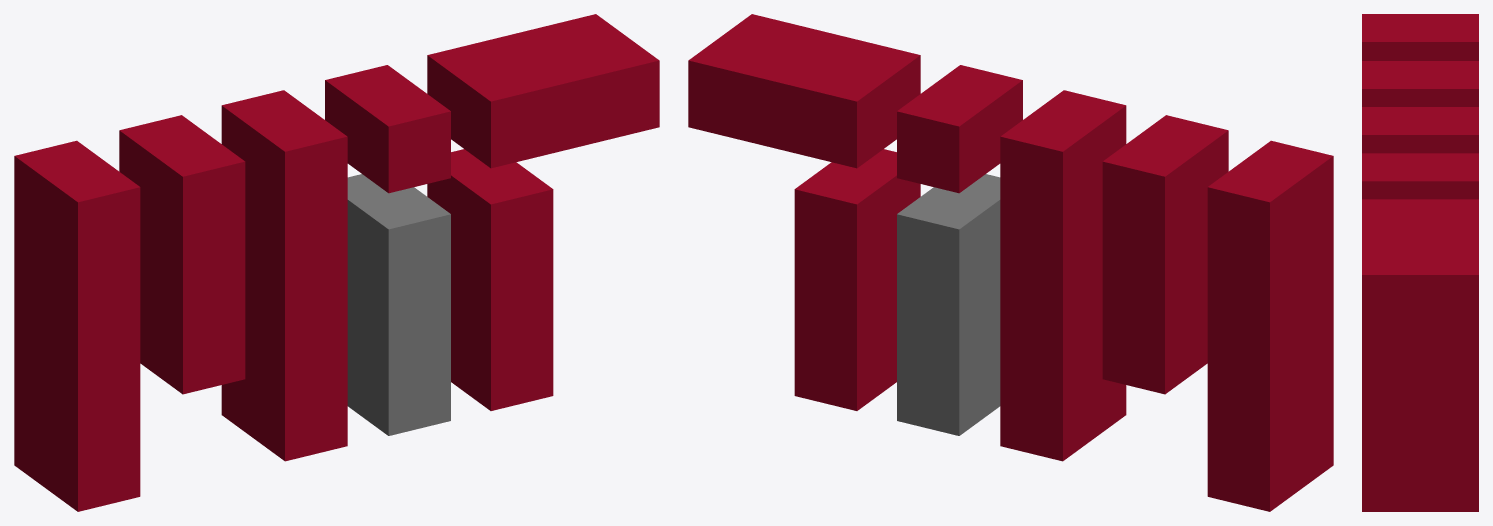
The model's file is MIT.fbx.
The picture shows the model from 3 angles, left to right: view 1: azimuth 30°, elevation 25°; view 2: azimuth 150°, elevation 25°; view 3: azimuth 270°, elevation 25°; orthographic projection. The views are drawn at different scales.
Visible parts, largest first — view 1: mit; view 2: mit; view 3: mit.
Part boxes in pixels (x1,y1,x2,y2): mit: (14, 14, 659, 511); mit: (688, 14, 1333, 511); mit: (1362, 14, 1478, 511).
Bounding box in the file's own units: 243 × 123 × 45.91.
